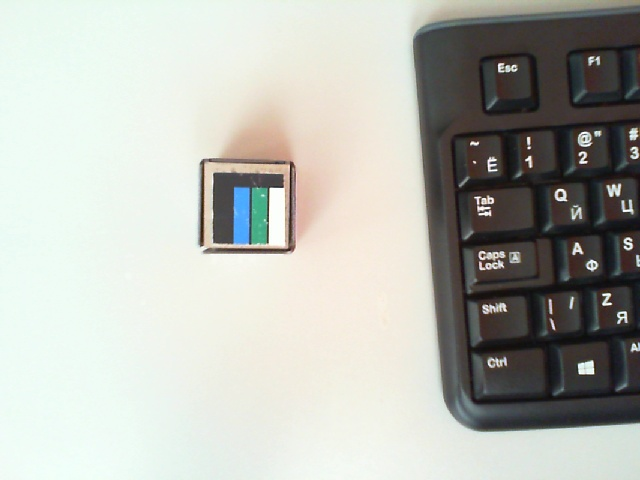square: (214, 173, 285, 244)
